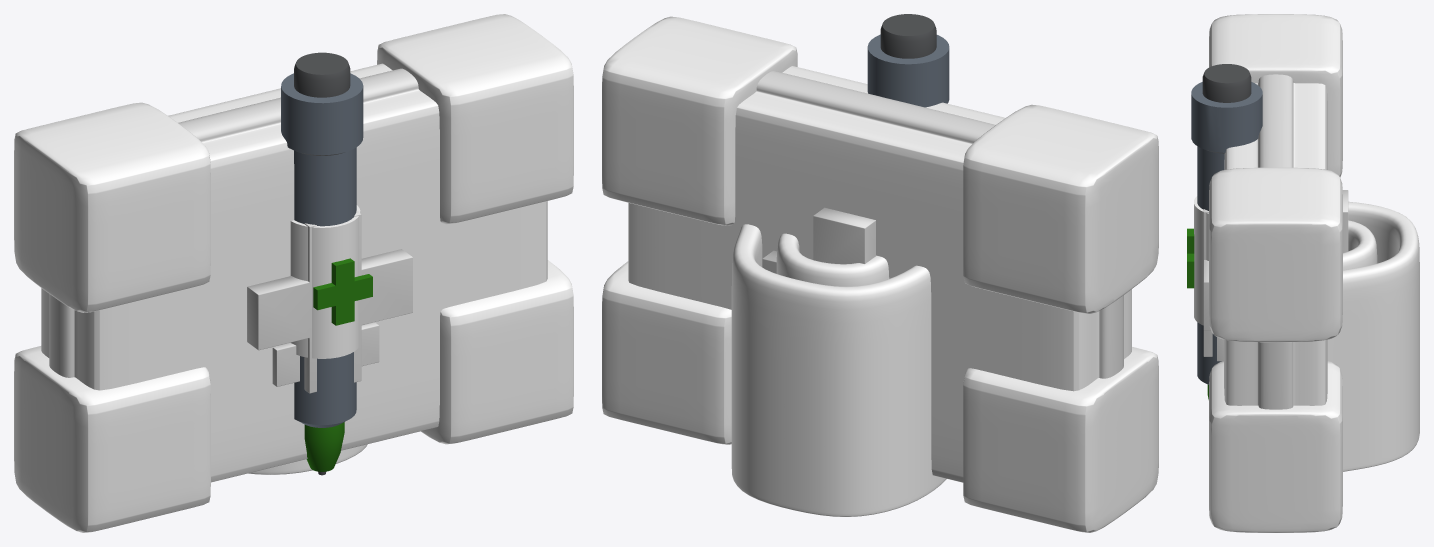
File: Medicals.fbx
The picture shows the model from 3 angles, left to right: view 1: azimuth 30°, elevation 25°; view 2: azimuth 150°, elevation 25°; view 3: azimuth 270°, elevation 25°; orthographic projection. The views are drawn at different scales.
Parts seen in each view (by area): view 1: MedicalBox, MedicalStim, Bandage; view 2: MedicalBox, Bandage, MedicalStim; view 3: MedicalBox, Bandage, MedicalStim.
Part boxes in pixels (left/top/right/bottom): MedicalBox: left=14, top=14, right=573, bottom=532; MedicalStim: left=281, top=52, right=372, bottom=475; Bandage: left=248, top=322, right=379, bottom=474; MedicalBox: left=602, top=16, right=1158, bottom=532; Bandage: left=731, top=224, right=946, bottom=516; MedicalStim: left=867, top=14, right=949, bottom=107; MedicalBox: left=1203, top=14, right=1348, bottom=532; Bandage: left=1217, top=201, right=1419, bottom=471; MedicalStim: left=1187, top=64, right=1262, bottom=399.
Size of the model in its own units: 220 by 174 by 103.
